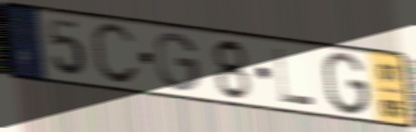5: (46, 17, 88, 78)
8: (209, 36, 253, 103)
C: (89, 21, 143, 88)
G: (322, 50, 372, 117), (153, 31, 202, 94)
L: (272, 46, 318, 108)
